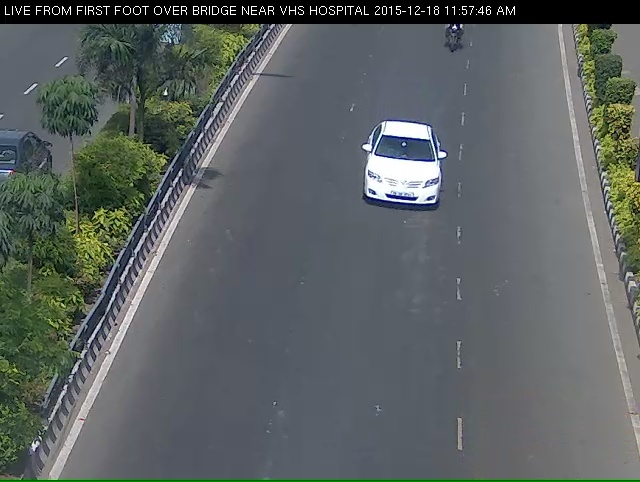Car: (354, 126, 450, 235)
Person: (432, 19, 471, 67)
